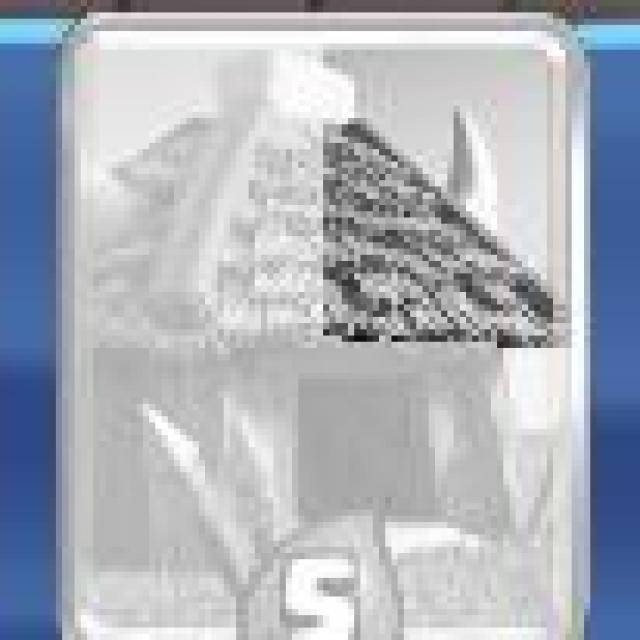Goblin_Hut: (59, 15, 592, 634)
